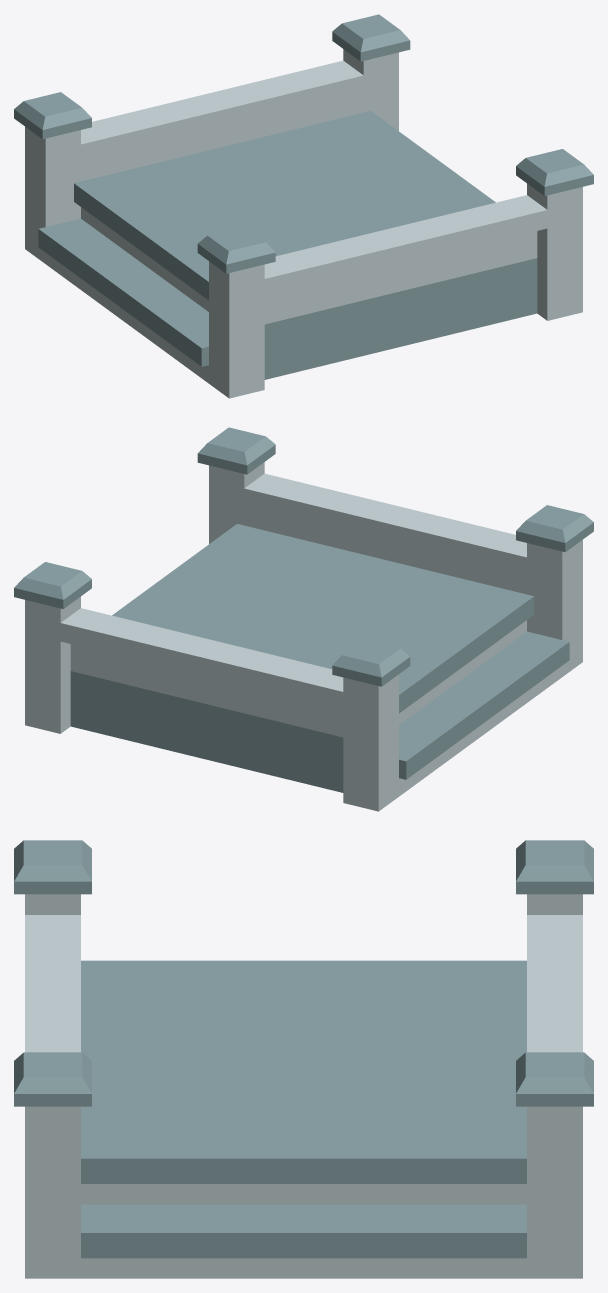
File: bridge_stone.glb
3 renders of one model, top to bottom at view 1: azimuth 30°, elevation 25°; view 2: azimuth 150°, elevation 25°; view 3: azimuth 270°, elevation 25°, orthographic. The views are drawn at different scales.
Parts seen in each view (by area): view 1: bridge_stone; view 2: bridge_stone; view 3: bridge_stone.
Part boxes in pixels (x1,y1,x2,y2): bridge_stone: [14, 14, 593, 398]; bridge_stone: [14, 427, 593, 811]; bridge_stone: [14, 840, 593, 1278].
Bounding box in the file's own units: 1.04 × 0.4 × 1.04.
